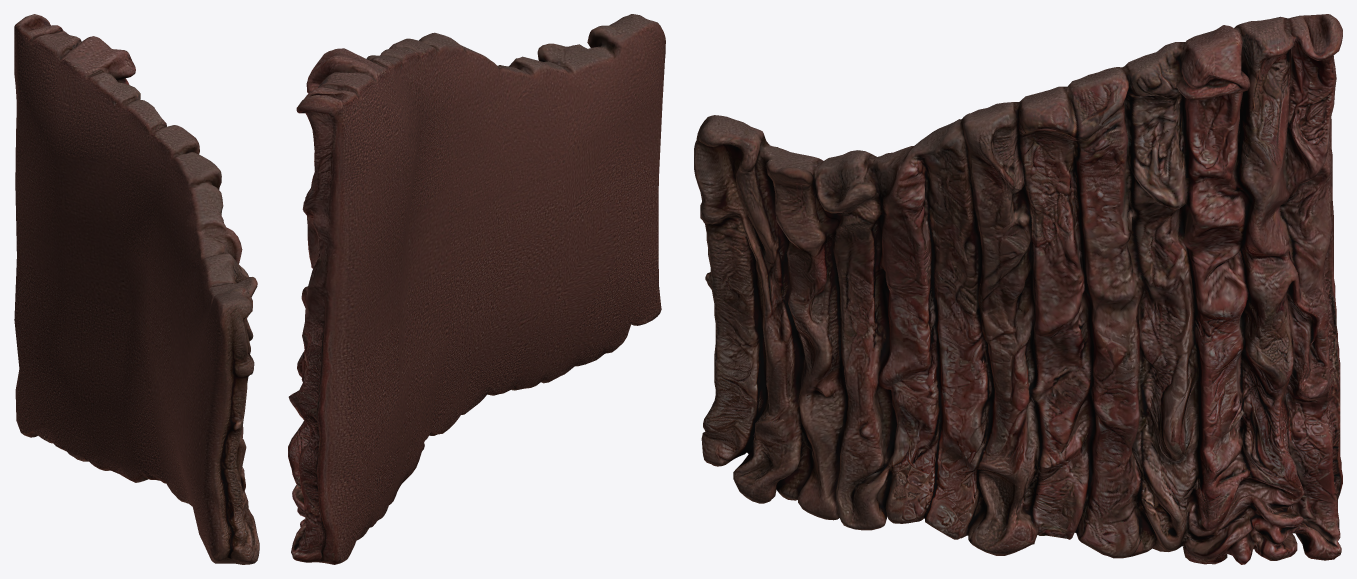
Rendered from prop-organic-rib-v01.glb.
3 views of the same model, side by side, from view 1: azimuth 30°, elevation 25°; view 2: azimuth 150°, elevation 25°; view 3: azimuth 270°, elevation 25° (orthographic). The views are drawn at different scales.
Visible parts, largest first — view 1: tripo_node_657bc1ef-a848-4c38-ad88-9c0806bc583a; view 2: tripo_node_657bc1ef-a848-4c38-ad88-9c0806bc583a; view 3: tripo_node_657bc1ef-a848-4c38-ad88-9c0806bc583a.
Boxes of the visible parts, x1,y1,x2,y2 form: tripo_node_657bc1ef-a848-4c38-ad88-9c0806bc583a: (14, 14, 259, 564); tripo_node_657bc1ef-a848-4c38-ad88-9c0806bc583a: (288, 14, 665, 564); tripo_node_657bc1ef-a848-4c38-ad88-9c0806bc583a: (694, 14, 1342, 564).
Size of the model in its own units: 0.5412 by 1.76 by 1.96.
Materials: 1 (1 with a texture image).
